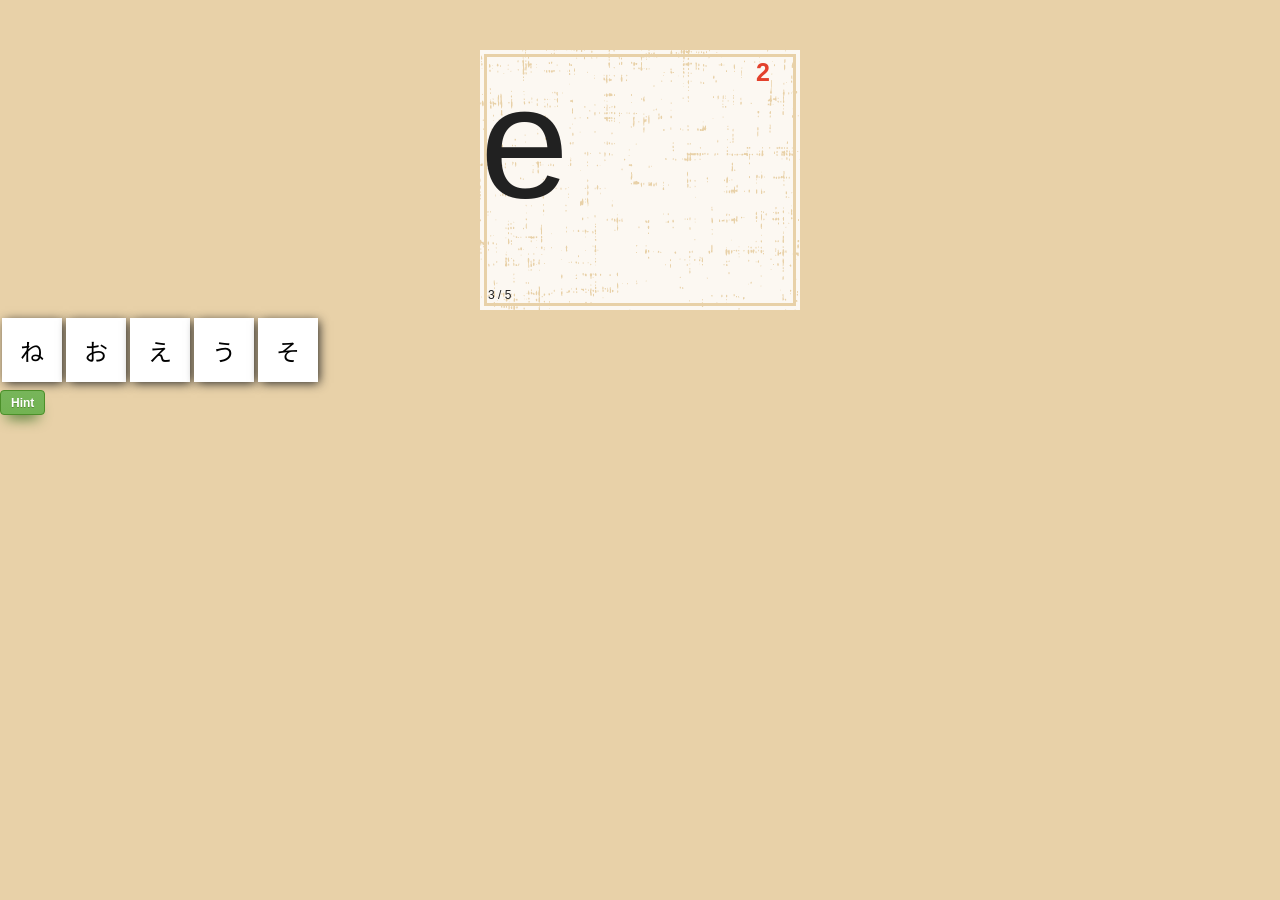
Test: Game page › ends the game after the last question
Earlier steps of the test are not shown.
What coordinates should you click on to do the following:
click the button "え"
I would click on:
 (160, 350)
Its box is [130, 318, 190, 382].
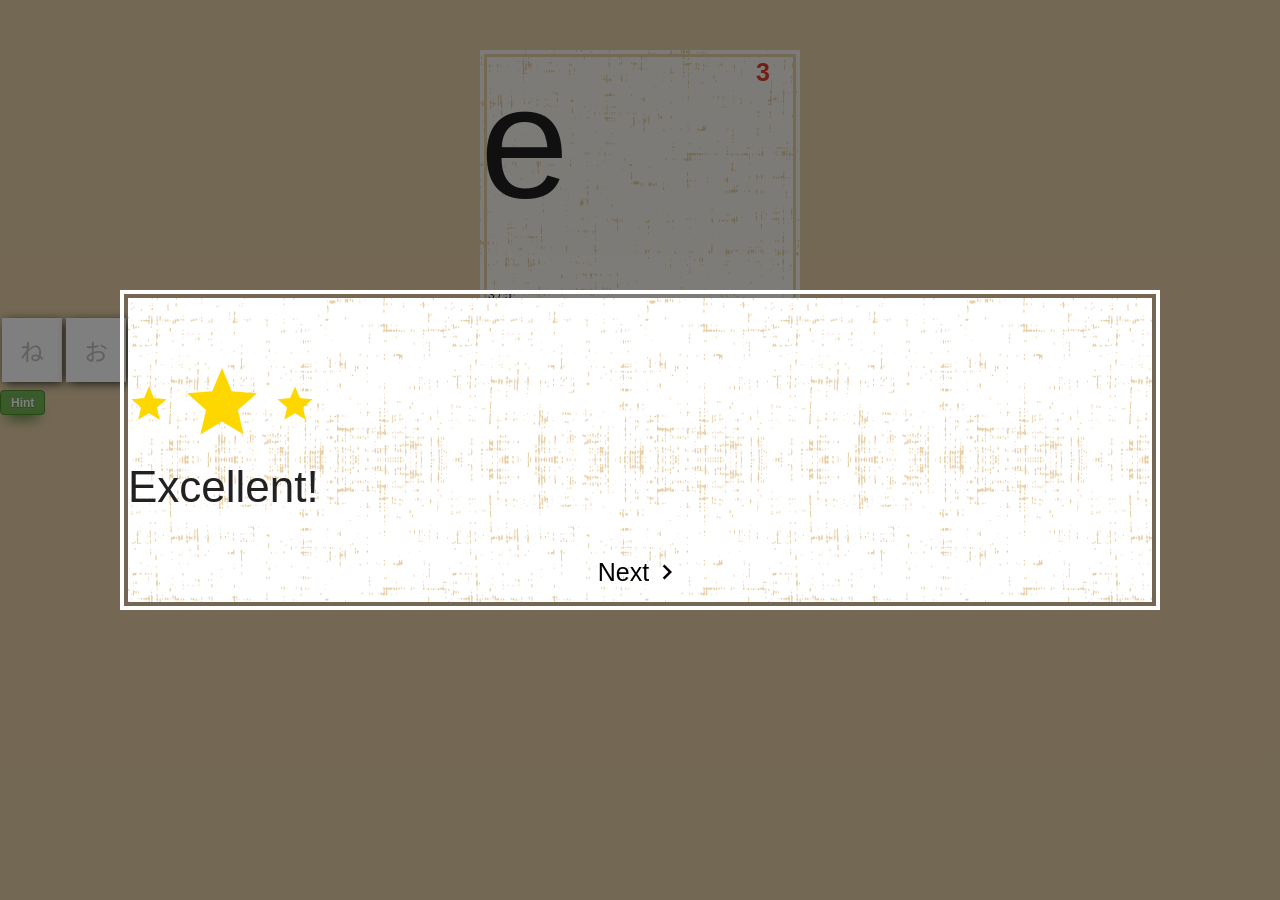
What coordinates should you click on to do the following:
click the button with class "next-question-button"
I would click on:
 (640, 572)
Its box is [565, 542, 715, 602].
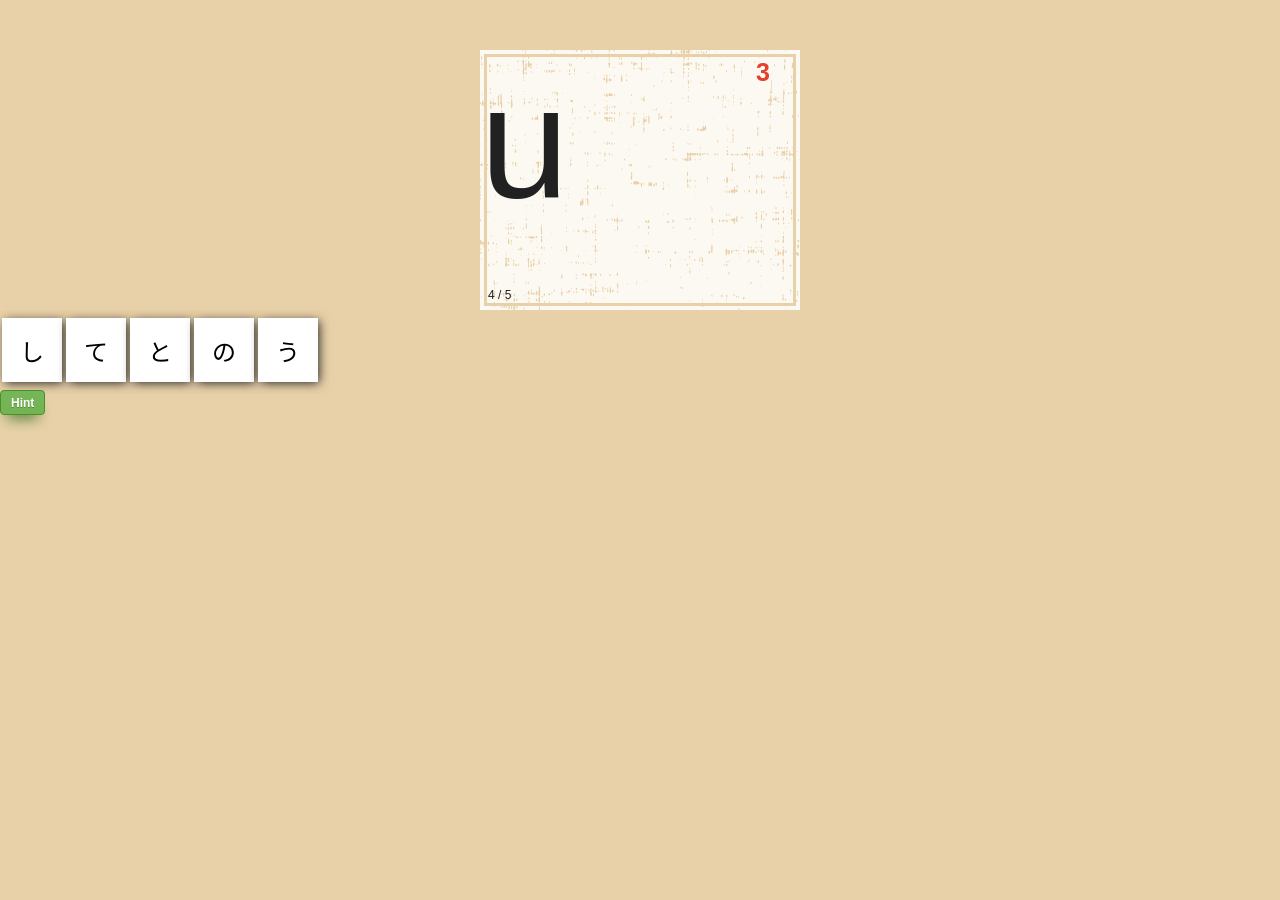
What coordinates should you click on to do the following:
click the button "う"
I would click on:
 (288, 350)
Its box is [258, 318, 318, 382].
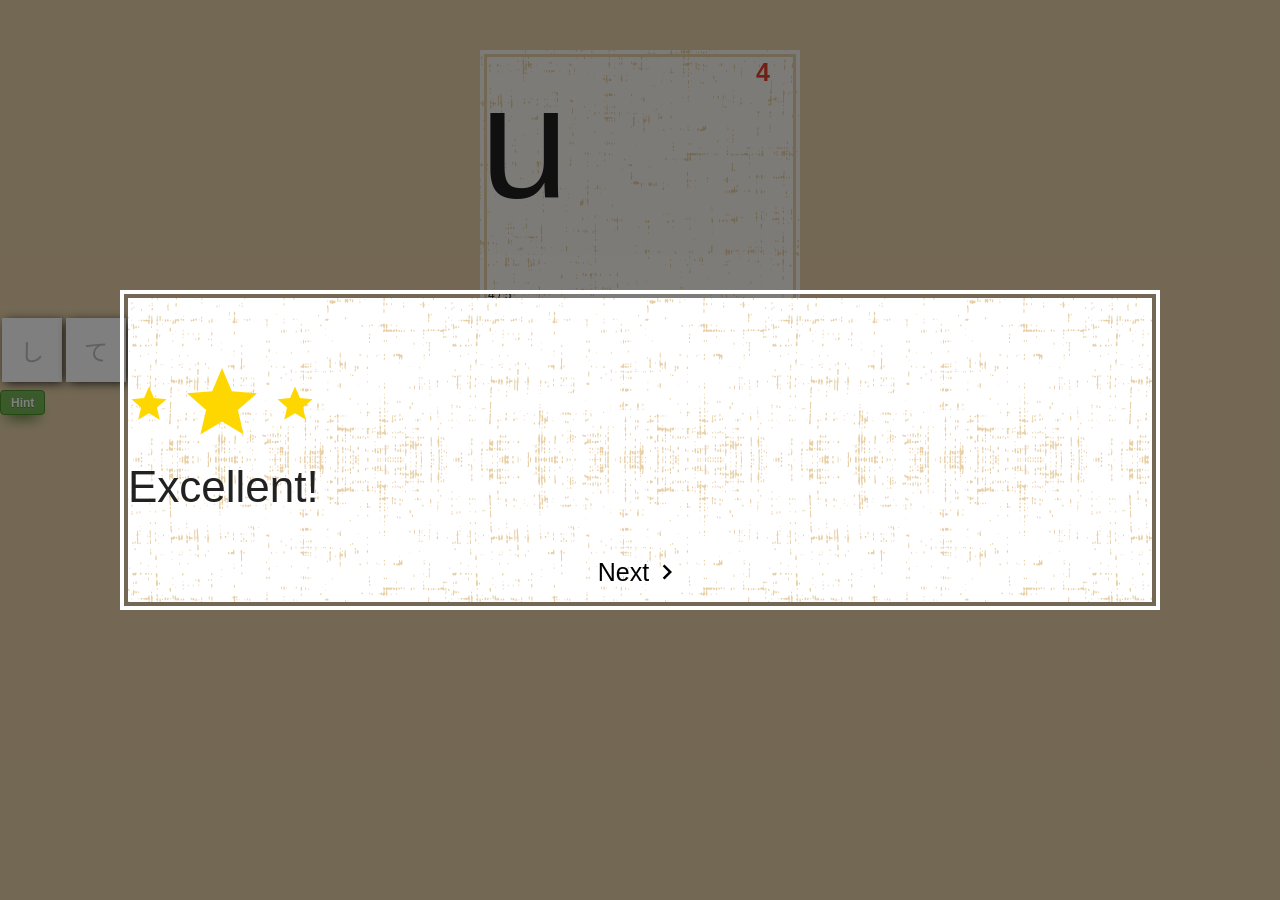
What coordinates should you click on to do the following:
click the button with class "next-question-button"
I would click on:
 (640, 572)
Its box is [565, 542, 715, 602].
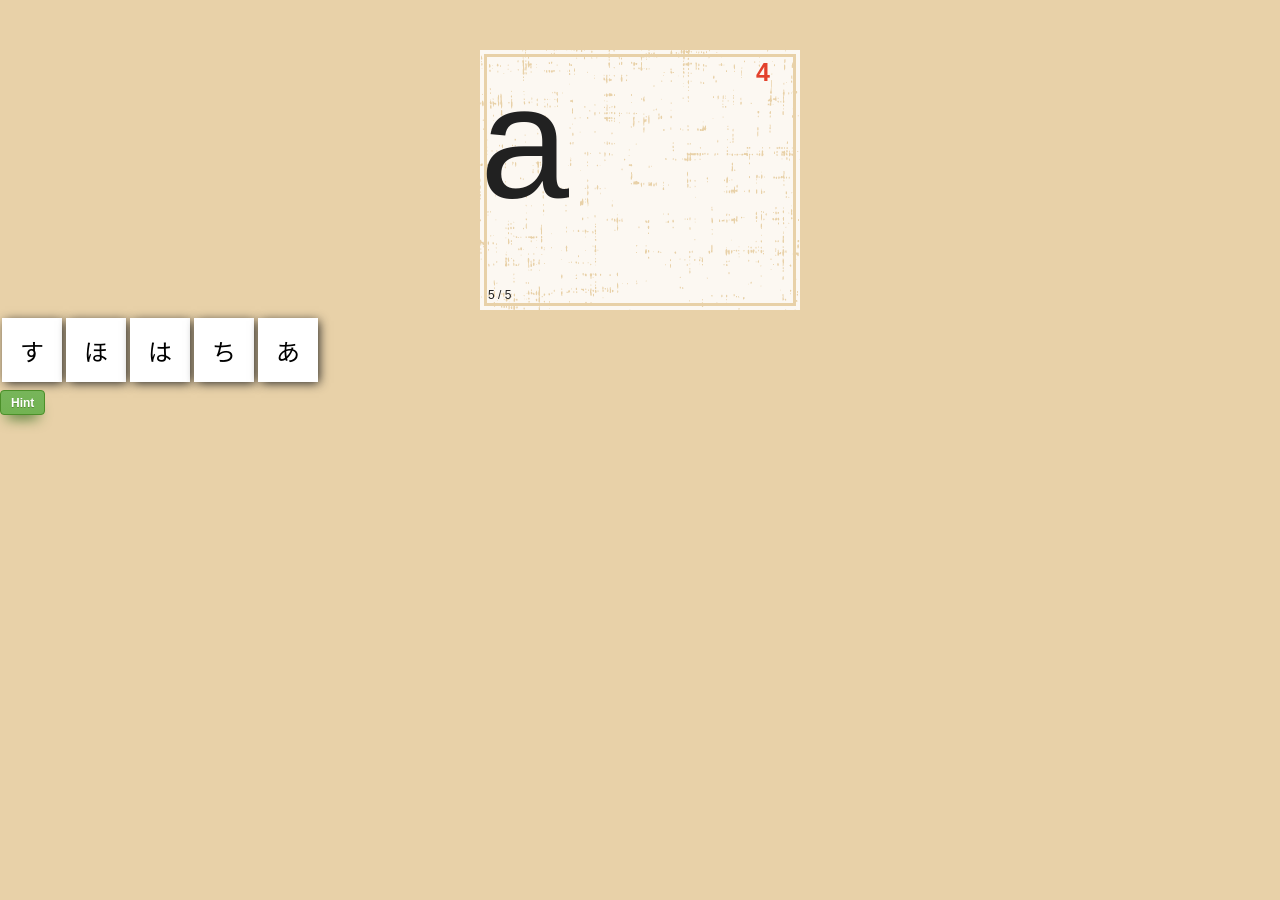
What coordinates should you click on to do the following:
click the button "あ"
I would click on:
 (288, 350)
Its box is [258, 318, 318, 382].
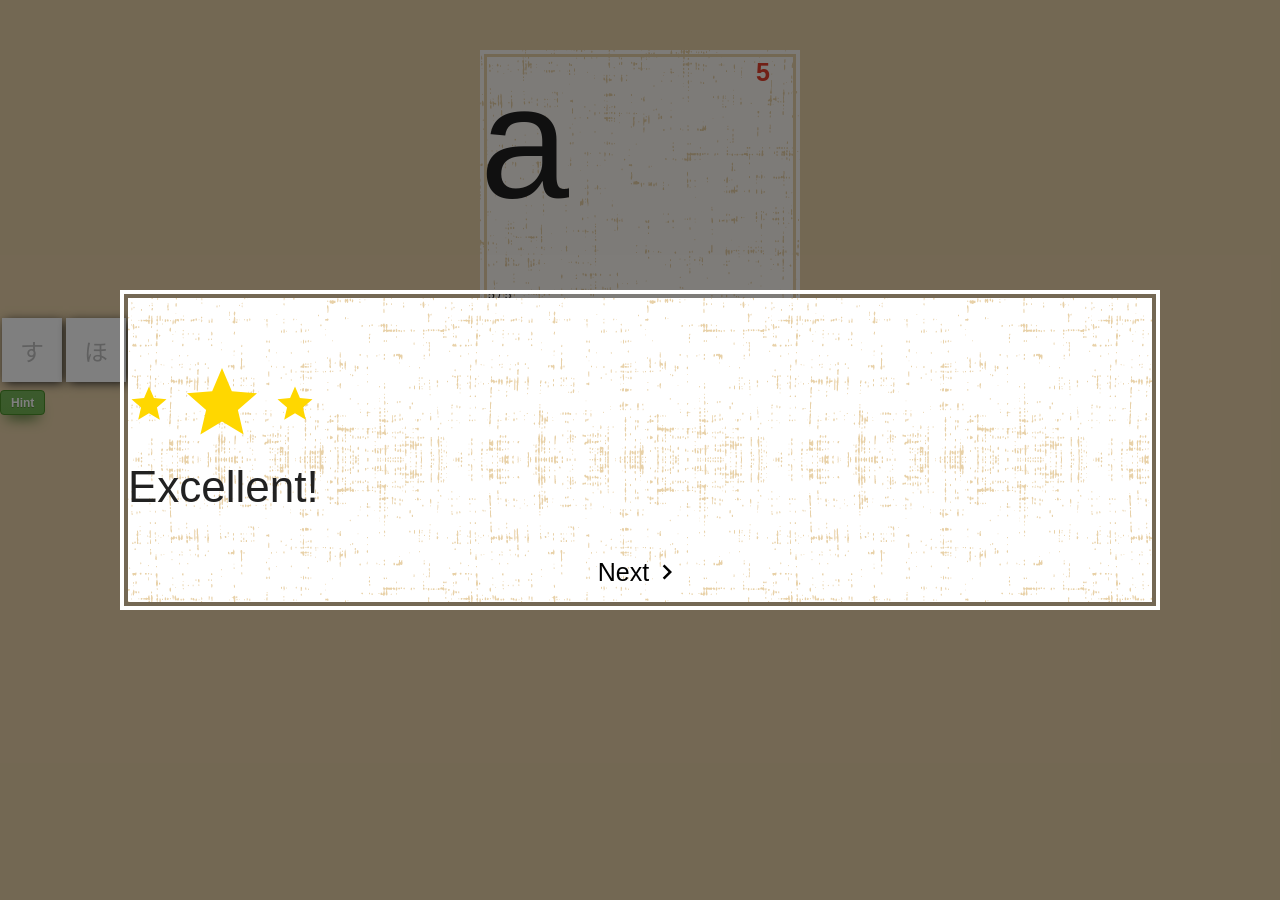
What coordinates should you click on to do the following:
click the button with class "next-question-button"
I would click on:
 (640, 572)
Its box is [565, 542, 715, 602].
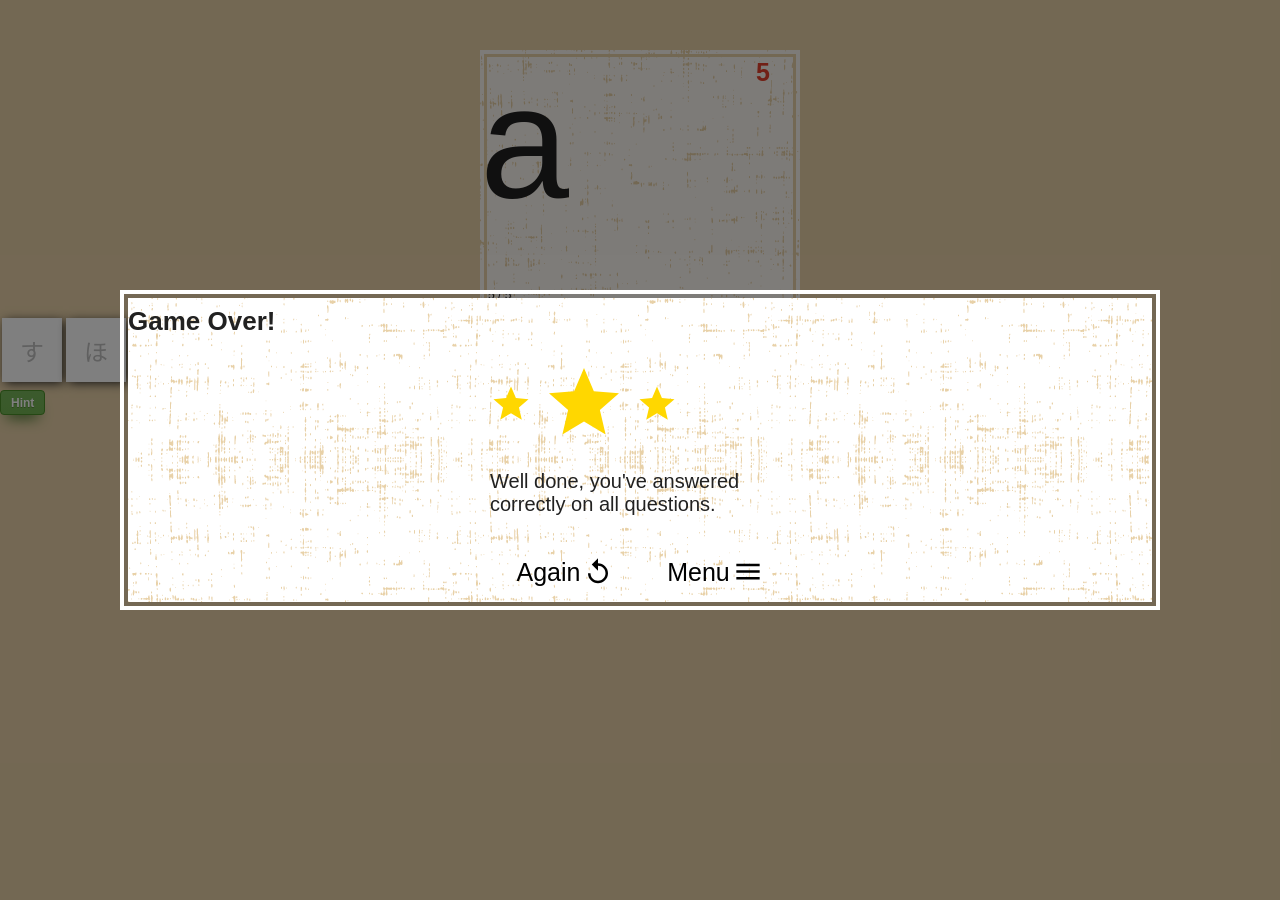
expect the text "Game Over!" is shown: met, box [128, 306, 275, 336]
expect the element with class "congratulation" is shown: met, box [490, 361, 739, 515]
expect the text "Well done, you've answered correctly on all questions." is shown: met, box [490, 470, 739, 515]
